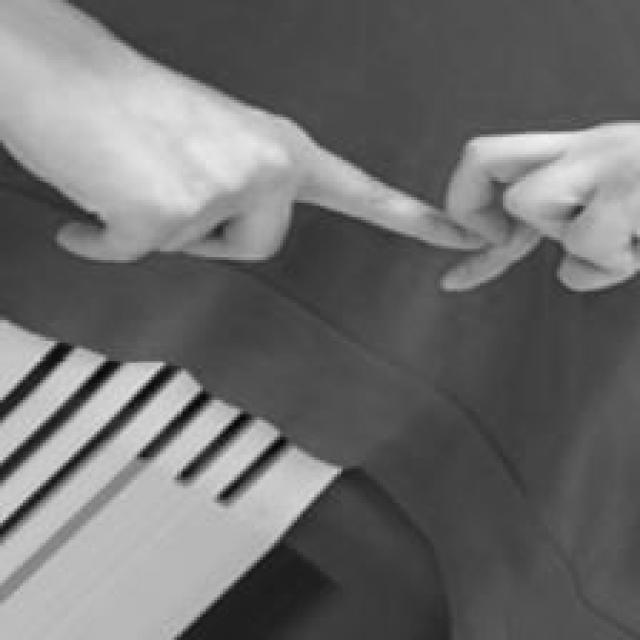R: (3, 0, 640, 302)
